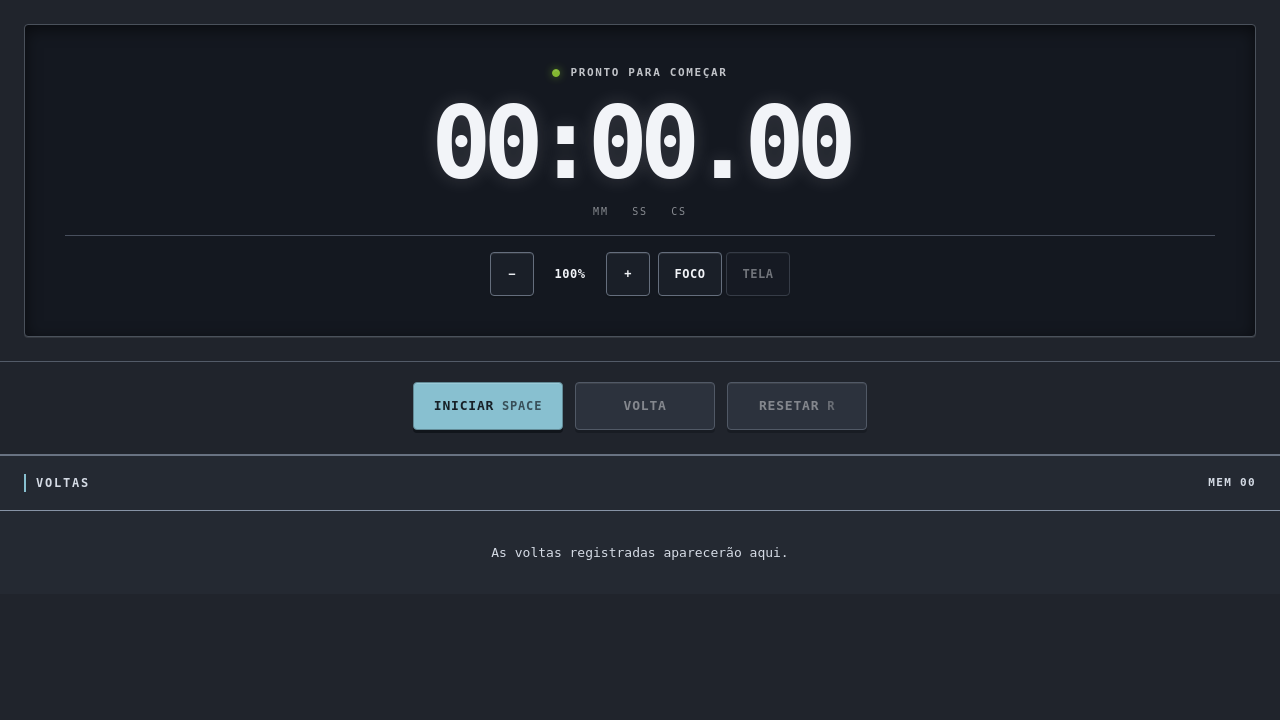
StopwatchPanel › starts and enables lap recording
Expected: the button with aria-label "Registrar volta" is disabled, [575,382,715,430]
Click the button with aria-label "Iniciar Cronômetro" at (488, 406), box [413,382,563,430]
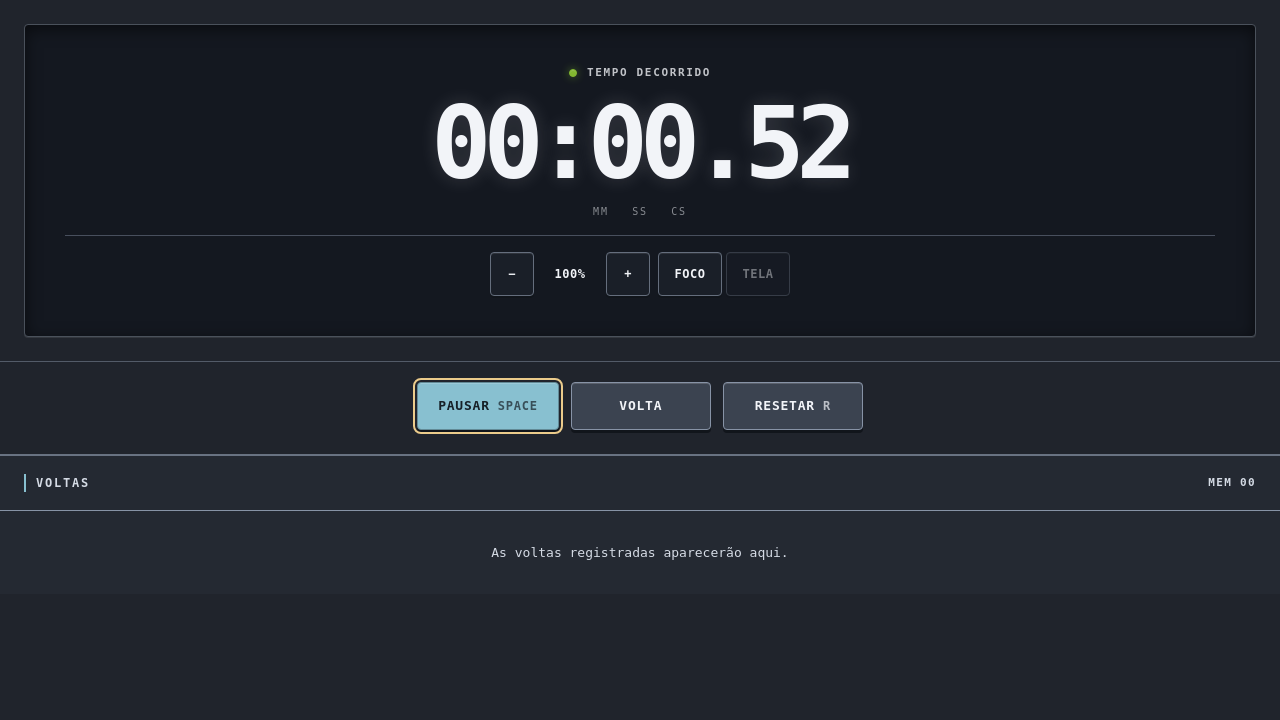
Result: the button with aria-label "Pausar Cronômetro" is shown at [417,382,559,430]
Result: the button with aria-label "Registrar volta" is enabled at [571,382,711,430]
